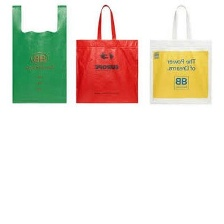plastic_bag: (144, 2, 215, 109), (73, 3, 141, 104), (7, 2, 70, 106)
